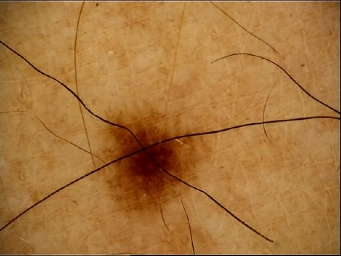nevus: (102, 109, 200, 214)
